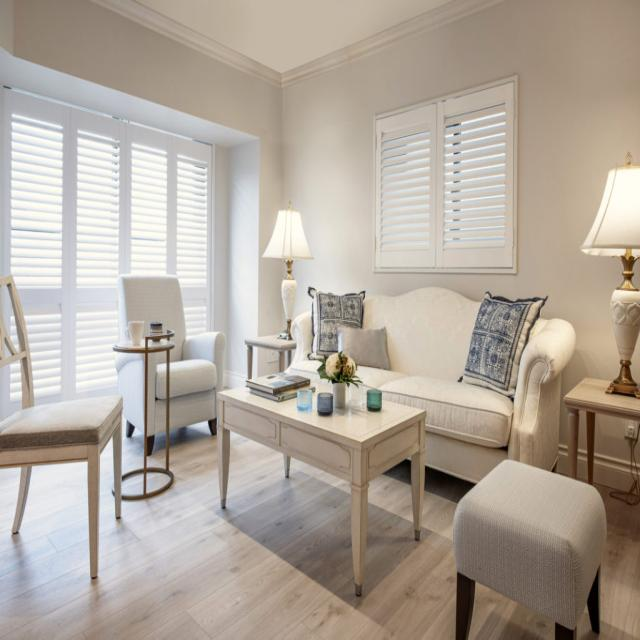white chair: (113, 269, 204, 483)
white desk: (218, 365, 411, 592)
white sofa: (341, 282, 563, 478)
